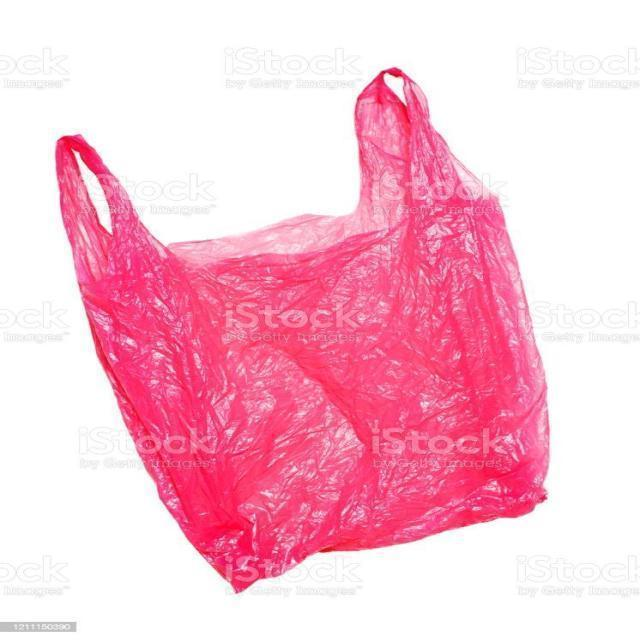Plastic_Bag: (54, 113, 554, 592)
